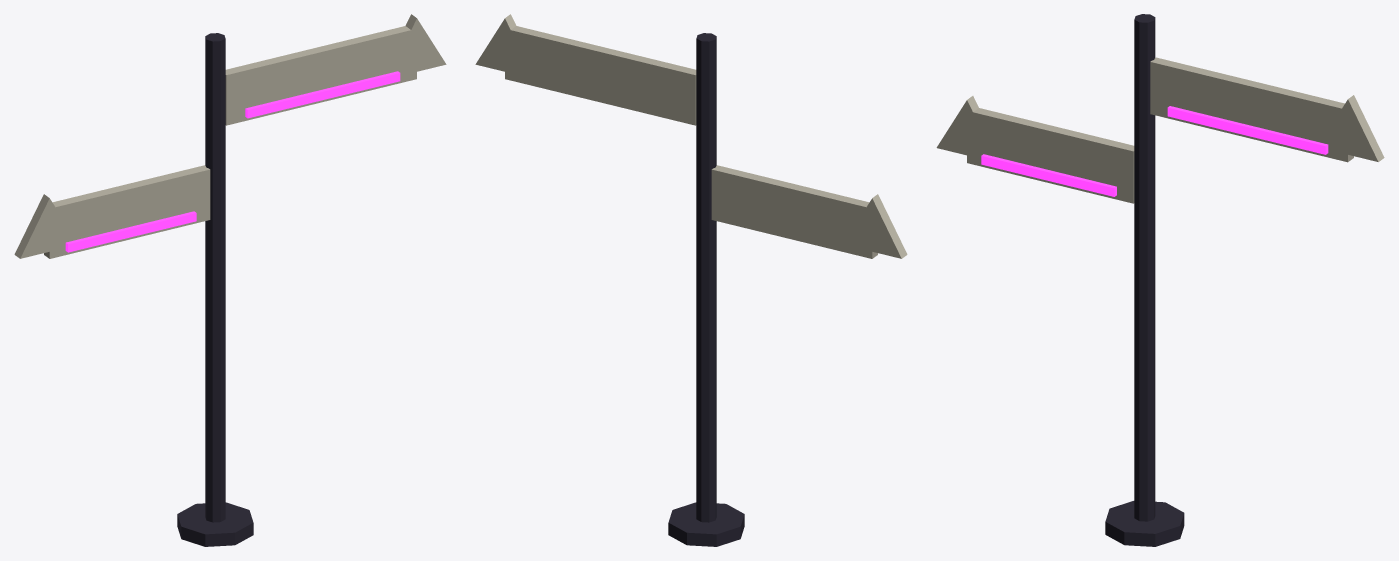
The model's file is road-sign.glb.
3 views of the same model, side by side, from view 1: azimuth 30°, elevation 25°; view 2: azimuth 150°, elevation 25°; view 3: azimuth 330°, elevation 25° (orthographic). The views are drawn at different scales.
Visible parts, largest first — view 1: road-sign; view 2: road-sign; view 3: road-sign.
Part boxes in pixels (x1,y1,x2,y2): road-sign: [14, 14, 446, 546]; road-sign: [475, 14, 907, 546]; road-sign: [936, 14, 1384, 546].
Size of the model in its own units: 2.12 by 2.35 by 0.34.
